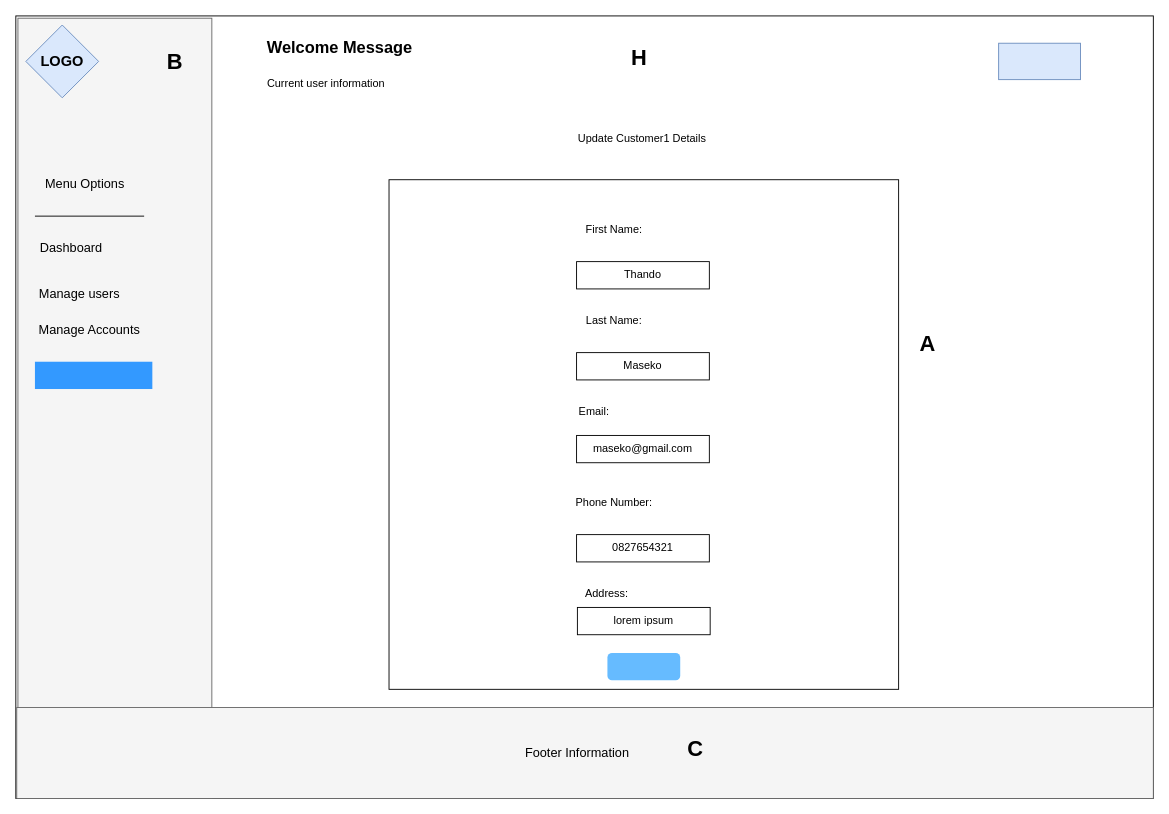
Image size: 1169x814. Some labels were removed from this diagram. The shapes that lost their labels are listed below. From the top down, each one's centre as x and y in pixels, then its label:
the point at 1039,61: Logout
the point at 93,375: Manage Customers
the point at 643,666: Update
